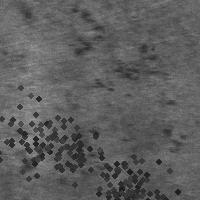rolled-in_scale: (0, 81, 86, 187), (76, 138, 178, 200), (81, 40, 175, 106), (39, 110, 113, 184), (69, 125, 136, 191), (88, 152, 160, 200), (66, 1, 106, 59)
